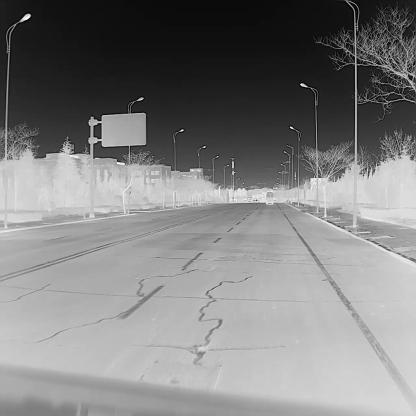car: (265, 191, 274, 204), (246, 193, 253, 204)
